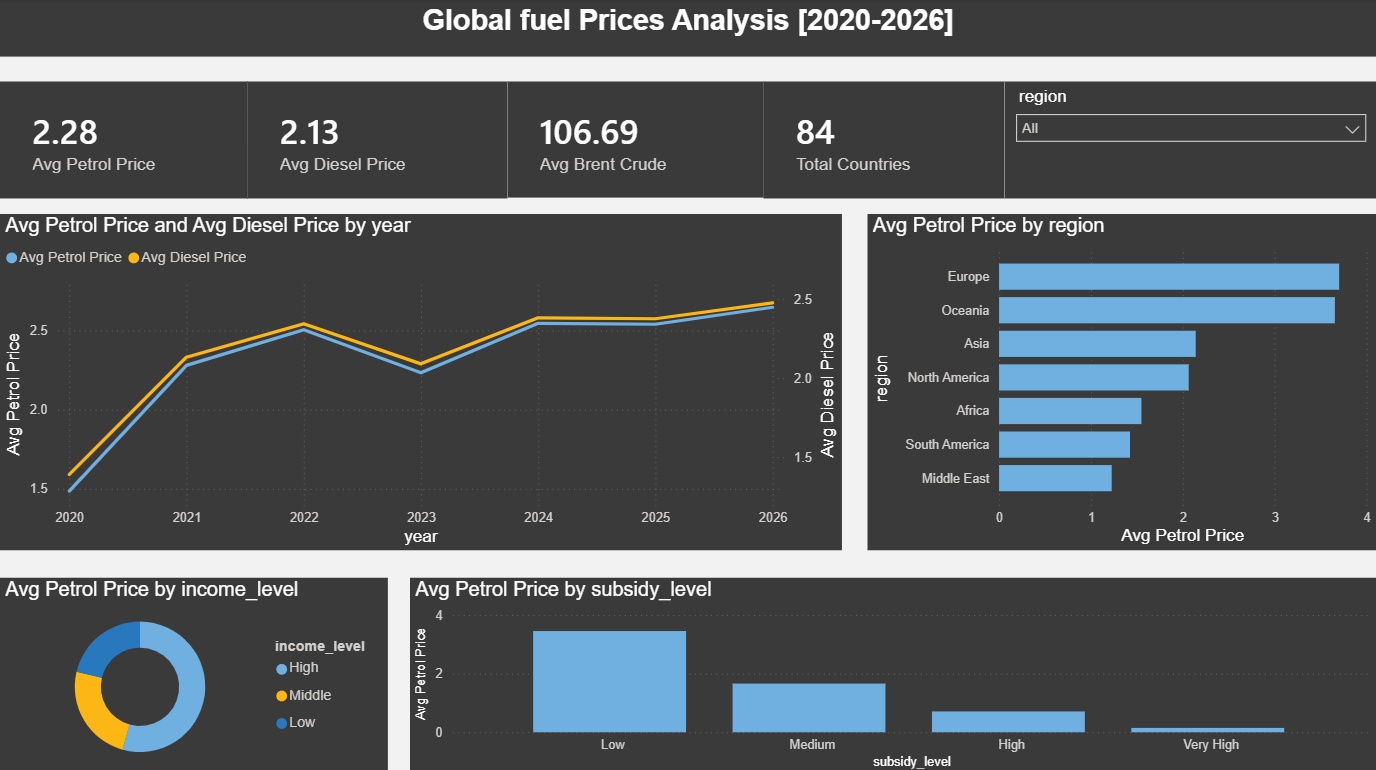

The page's visual inventory and layout, read from the dashboard file:
{"tool":"powerbi","page":{"name":"Overview","canvas":[1280,720],"ordinal":0},"visuals":[{"type":"cardVisual","fields":{"Data":["fuel_prices_db vw_fuel_analysis.Avg Petrol Price"]},"box":[0,76.8,230.5,108.4],"z":0},{"type":"cardVisual","fields":{"Data":["fuel_prices_db vw_fuel_analysis.Avg Diesel Price"]},"box":[230.5,76.8,241.5,108.4],"z":1000},{"type":"cardVisual","fields":{"Data":["fuel_prices_db vw_fuel_analysis.Avg Brent Crude"]},"box":[472.1,76.7,238.4,108.1],"z":2000},{"type":"cardVisual","fields":{"Data":["fuel_prices_db vw_fuel_analysis.Total Countries"]},"box":[710.8,76.8,223.7,108.4],"z":3000},{"type":"lineChart","fields":{"Category":["fuel_prices_db vw_fuel_analysis.year"],"Y":["fuel_prices_db vw_fuel_analysis.Avg Petrol Price"]},"box":[0,200.3,783.5,312.9],"z":4000},{"type":"clusteredBarChart","fields":{"Category":["fuel_prices_db vw_fuel_analysis.region"],"Y":["fuel_prices_db vw_fuel_analysis.Avg Petrol Price"]},"box":[806.9,200.3,473.4,312.9],"z":5000},{"type":"clusteredColumnChart","fields":{"Category":["fuel_prices_db vw_fuel_analysis.subsidy_level"],"Y":["fuel_prices_db vw_fuel_analysis.Avg Petrol Price"]},"box":[381.5,537.9,898.8,182.5],"z":6000},{"type":"donutChart","fields":{"Category":["fuel_prices_db vw_fuel_analysis.income_level"],"Y":["fuel_prices_db vw_fuel_analysis.Avg Petrol Price"]},"box":[0,537.9,360.9,182.5],"z":7000},{"type":"slicer","fields":{"Values":["fuel_prices_db vw_fuel_analysis.region"]},"box":[934.5,76.8,345.8,108.4],"z":7001},{"type":"textbox","box":[0,0,1280.3,53.5],"z":7002}]}

Visuals, with their boxes in screenshot pixels (x1, y1, x2, y2), scaled from the page's 1280x720 canvas onto the 1376x770 screenshot:
cardVisual - fuel_prices_db vw_fuel_analysis.Avg Petrol Price: BBox(0, 82, 248, 198)
cardVisual - fuel_prices_db vw_fuel_analysis.Avg Diesel Price: BBox(248, 82, 507, 198)
cardVisual - fuel_prices_db vw_fuel_analysis.Avg Brent Crude: BBox(508, 82, 764, 198)
cardVisual - fuel_prices_db vw_fuel_analysis.Total Countries: BBox(764, 82, 1005, 198)
lineChart - fuel_prices_db vw_fuel_analysis.year x fuel_prices_db vw_fuel_analysis.Avg Petrol Price: BBox(0, 214, 842, 549)
clusteredBarChart - fuel_prices_db vw_fuel_analysis.region x fuel_prices_db vw_fuel_analysis.Avg Petrol Price: BBox(867, 214, 1375, 549)
clusteredColumnChart - fuel_prices_db vw_fuel_analysis.subsidy_level x fuel_prices_db vw_fuel_analysis.Avg Petrol Price: BBox(410, 575, 1375, 769)
donutChart - fuel_prices_db vw_fuel_analysis.income_level x fuel_prices_db vw_fuel_analysis.Avg Petrol Price: BBox(0, 575, 388, 769)
slicer - fuel_prices_db vw_fuel_analysis.region: BBox(1005, 82, 1375, 198)
textbox: BBox(0, 0, 1375, 57)
